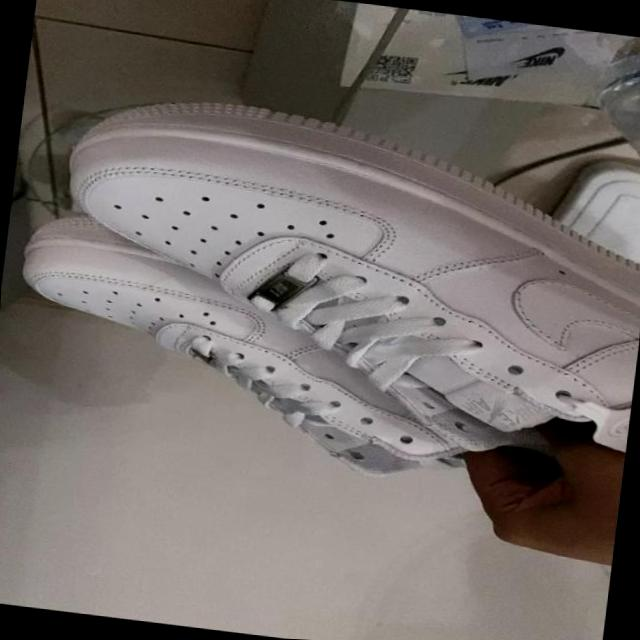nike_original_airforce: (0, 74, 640, 467), (0, 206, 537, 488)
